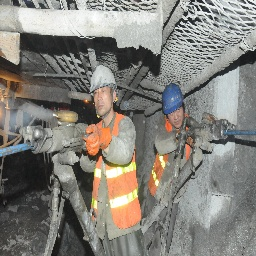helmet: (160, 80, 186, 121), (88, 65, 118, 100)
person: (84, 64, 141, 256), (148, 83, 190, 250)
vest: (84, 117, 148, 235)
